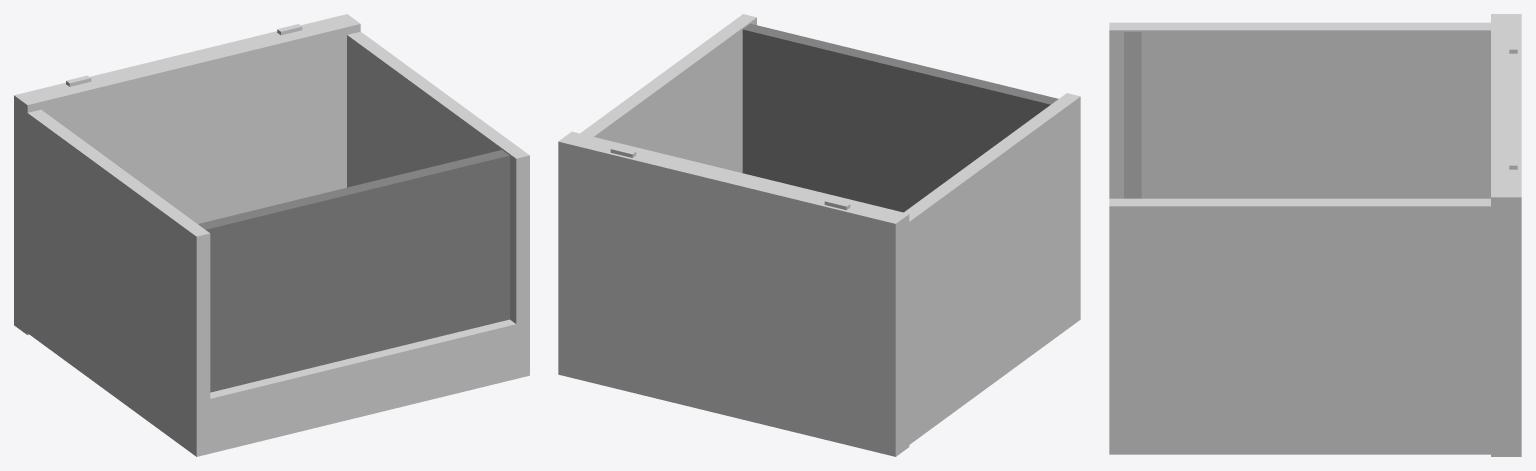
Rendered from Counter_1.glb.
The picture shows the model from 3 angles, left to right: view 1: azimuth 30°, elevation 25°; view 2: azimuth 150°, elevation 25°; view 3: azimuth 270°, elevation 25°; orthographic projection. The views are drawn at different scales.
Visible parts, largest first — view 1: Counter 1; view 2: Counter 1; view 3: Counter 1.
Part boxes in pixels (box(x1,y1,x2,y2)): Counter 1: box(14, 14, 529, 456); Counter 1: box(558, 14, 1080, 456); Counter 1: box(1109, 14, 1521, 456).
Bounding box in the file's own units: 1 × 0.6697 × 0.949.
1 material, 1 textured.
